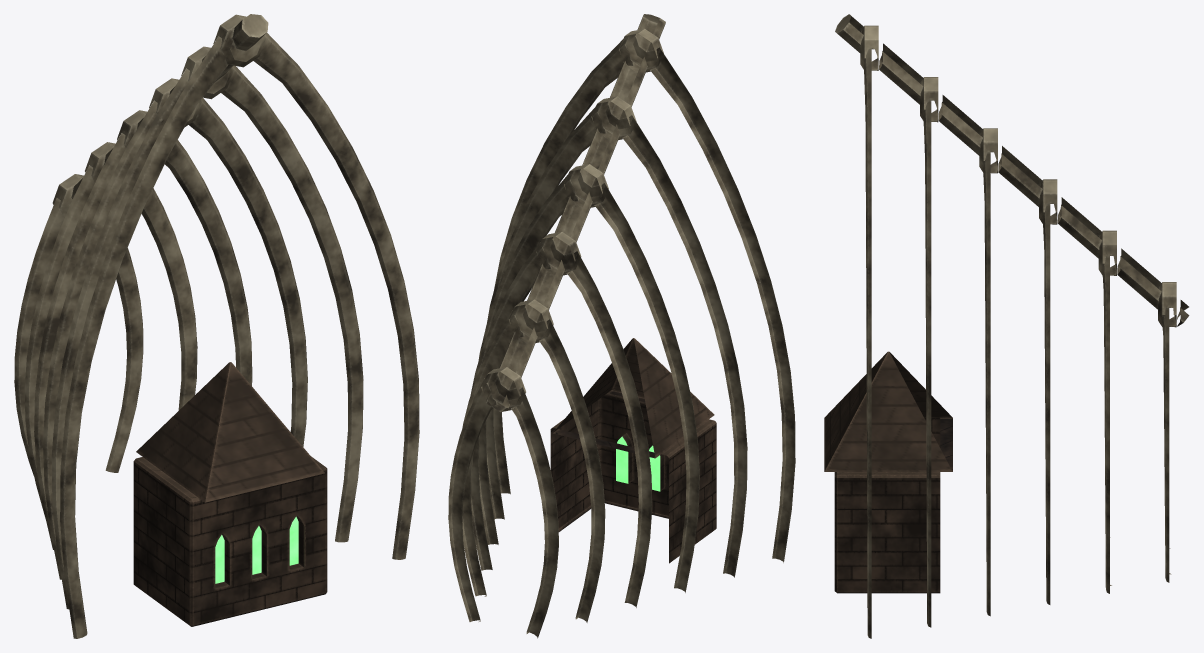
Rendered from Ossuary_BG_Far_A.fbx.
The picture shows the model from 3 angles, left to right: view 1: azimuth 30°, elevation 25°; view 2: azimuth 150°, elevation 25°; view 3: azimuth 270°, elevation 25°; orthographic projection. The views are drawn at different scales.
Visible parts, largest first — view 1: Ossuary_BG_Far_A; view 2: Ossuary_BG_Far_A; view 3: Ossuary_BG_Far_A.
Boxes of the visible parts, bbox=[...] form: Ossuary_BG_Far_A: bbox=[14, 14, 419, 638]; Ossuary_BG_Far_A: bbox=[448, 14, 795, 638]; Ossuary_BG_Far_A: bbox=[824, 14, 1189, 638].
Bounding box in the file's own units: 13.55 × 21.36 × 12.87.
